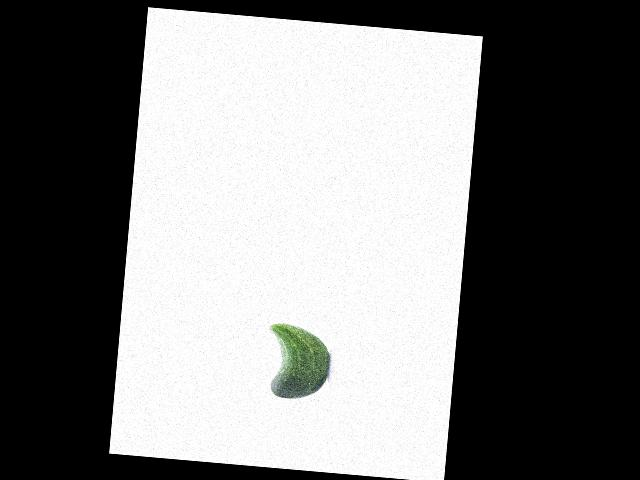cucumber: (264, 321, 332, 401)
